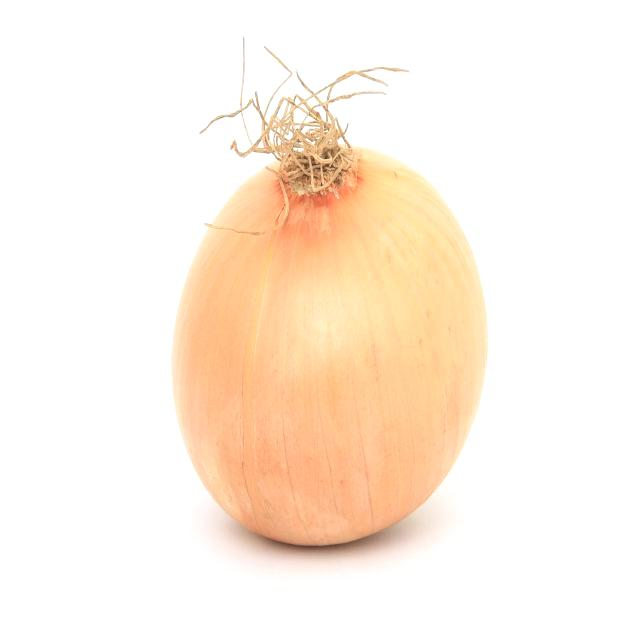onion: (173, 119, 488, 547)
